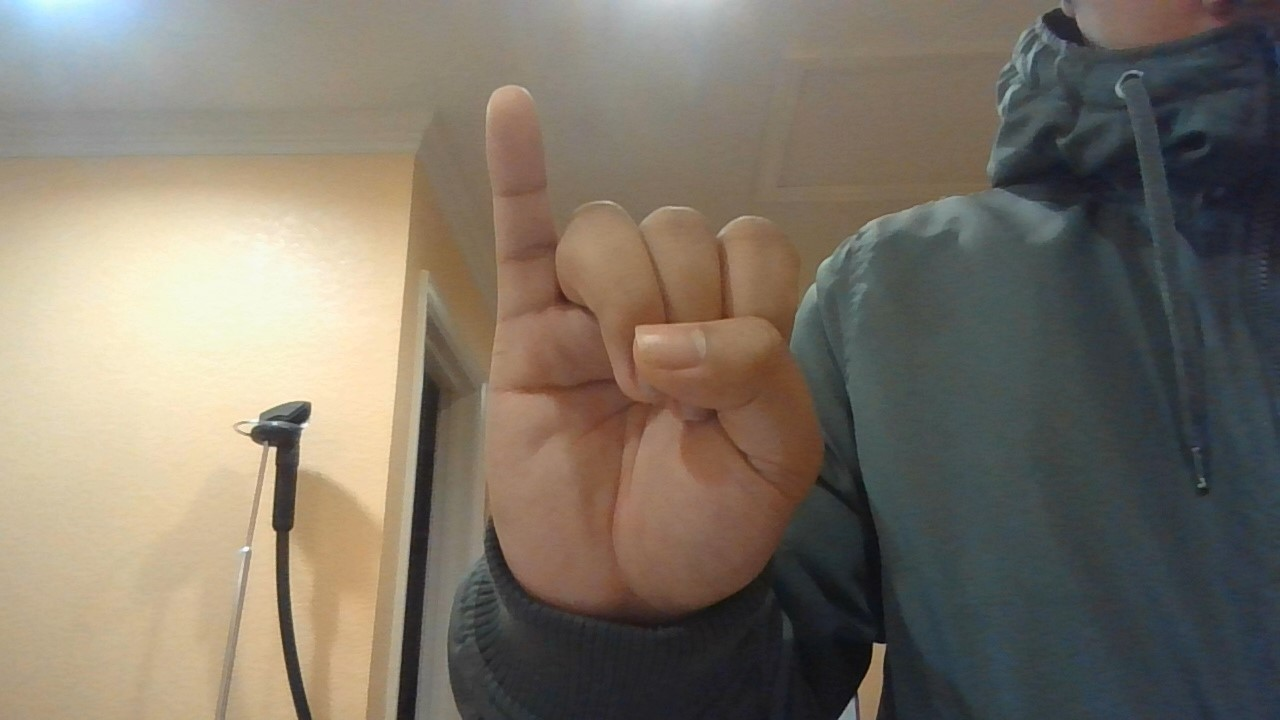i: (445, 62, 849, 697)
